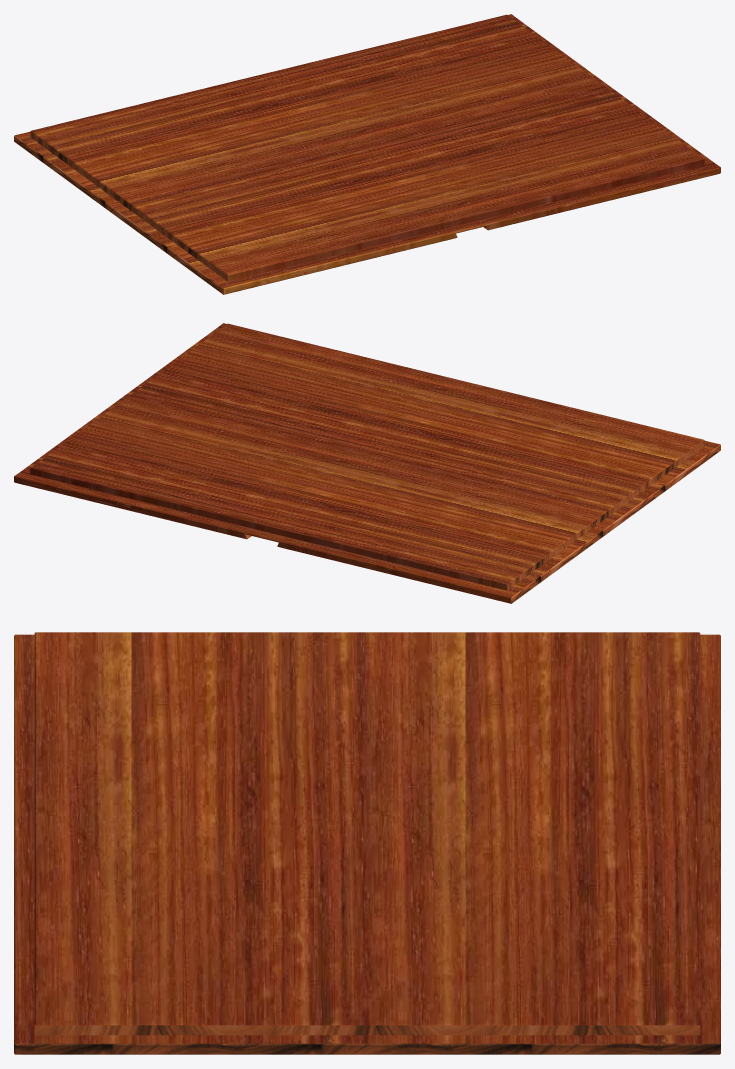
File: quanyi_J_D_zuoban.FBX
3 renders of one model, top to bottom at view 1: azimuth 30°, elevation 25°; view 2: azimuth 150°, elevation 25°; view 3: azimuth 270°, elevation 25°, orthographic. The views are drawn at different scales.
Visible parts, largest first — view 1: quanyi_J_D_zuoban; view 2: quanyi_J_D_zuoban; view 3: quanyi_J_D_zuoban.
Part boxes in pixels (box(x1,y1,x2,y2)): quanyi_J_D_zuoban: box(14, 14, 720, 294); quanyi_J_D_zuoban: box(14, 323, 720, 603); quanyi_J_D_zuoban: box(14, 632, 720, 1054).
Size of the model in its own units: 46.87 by 1.2 by 34.16.
Materials: 2 (2 with a texture image).
